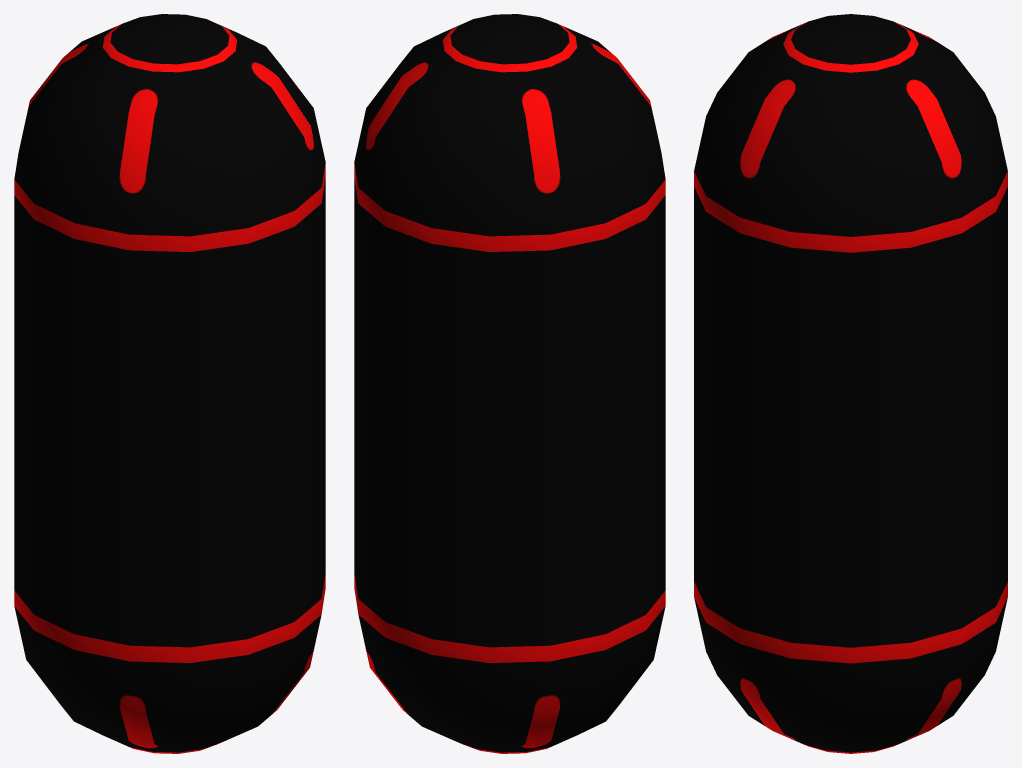
File: grenade.dae
3 renders of one model, left to right at view 1: azimuth 30°, elevation 25°; view 2: azimuth 150°, elevation 25°; view 3: azimuth 270°, elevation 25°, orthographic.
Parts seen in each view (by area): view 1: Sphere; view 2: Sphere; view 3: Sphere.
Boxes of the visible parts, left/top/right/bottom form: Sphere: left=14, top=14, right=325, bottom=753; Sphere: left=354, top=14, right=665, bottom=753; Sphere: left=694, top=14, right=1007, bottom=753.
Bounding box in the file's own units: 2 × 2 × 5.
1 material, 1 textured.
